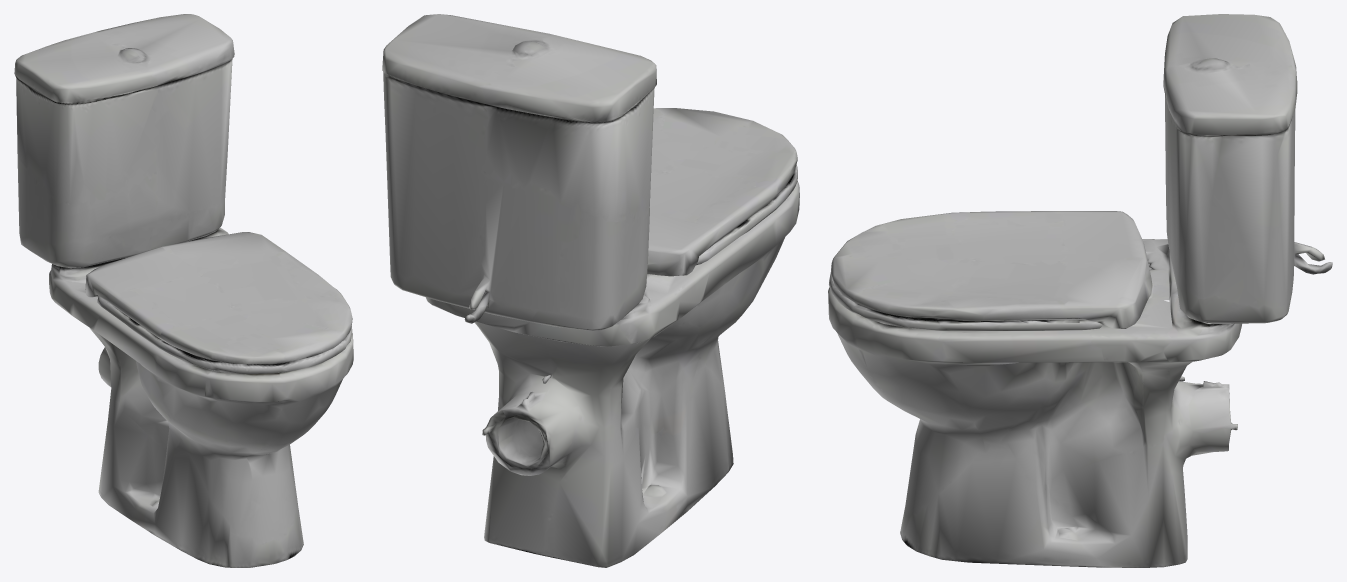
File: toilet.3e046e18.glb
3 views of the same model, side by side, from view 1: azimuth 30°, elevation 25°; view 2: azimuth 150°, elevation 25°; view 3: azimuth 270°, elevation 25° (orthographic). The views are drawn at different scales.
Parts seen in each view (by area): view 1: tripo_node_e976721e-d9e9-433a-b6dc-ecf9e8ae6947; view 2: tripo_node_e976721e-d9e9-433a-b6dc-ecf9e8ae6947; view 3: tripo_node_e976721e-d9e9-433a-b6dc-ecf9e8ae6947.
Part boxes in pixels (bbox=[...]): tripo_node_e976721e-d9e9-433a-b6dc-ecf9e8ae6947: bbox=[14, 14, 353, 567]; tripo_node_e976721e-d9e9-433a-b6dc-ecf9e8ae6947: bbox=[382, 14, 799, 567]; tripo_node_e976721e-d9e9-433a-b6dc-ecf9e8ae6947: bbox=[828, 14, 1332, 567].
Size of the model in its own units: 0.3418 by 0.7294 by 0.6986.
Materials: 1 (1 with a texture image).
